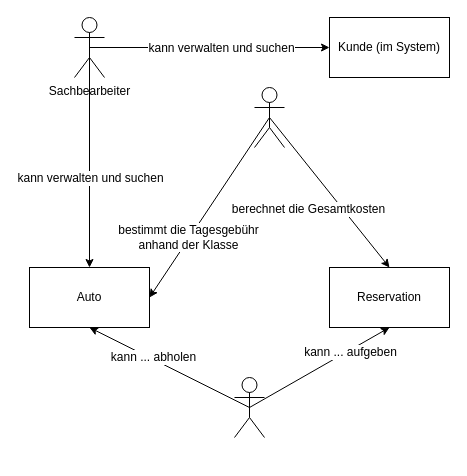
Some shapes in this 467 by 476 pixel diagram are drawn without their labels. Here are the shapes that lost their labels. From the top down, the centre of each, then its label:
At pixel 269 117: "Softwaresystem".
At pixel 249 407: "Kunde".
